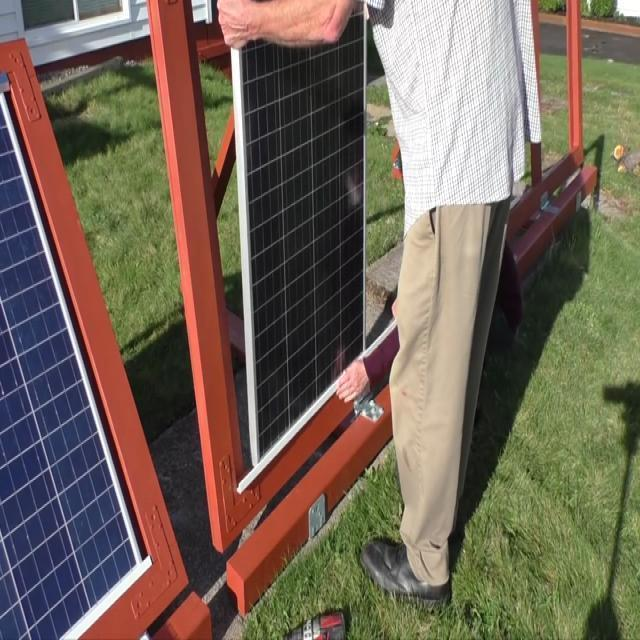Normal Solar Panel: (0, 96, 145, 640), (238, 11, 370, 462)
